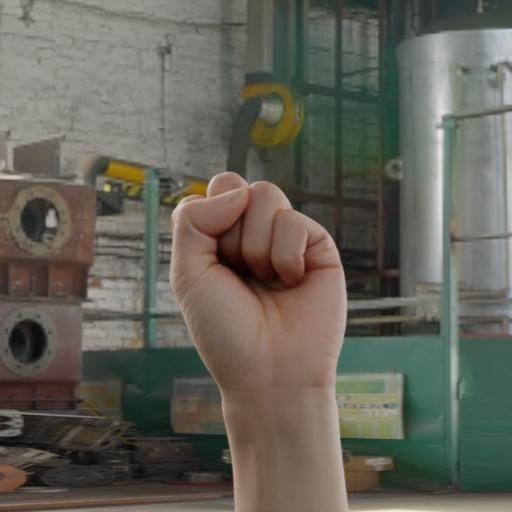S: (142, 144, 382, 413)
